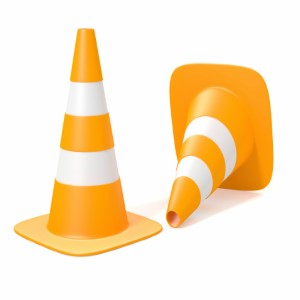traffic cone: (14, 28, 163, 256), (166, 63, 274, 228)
